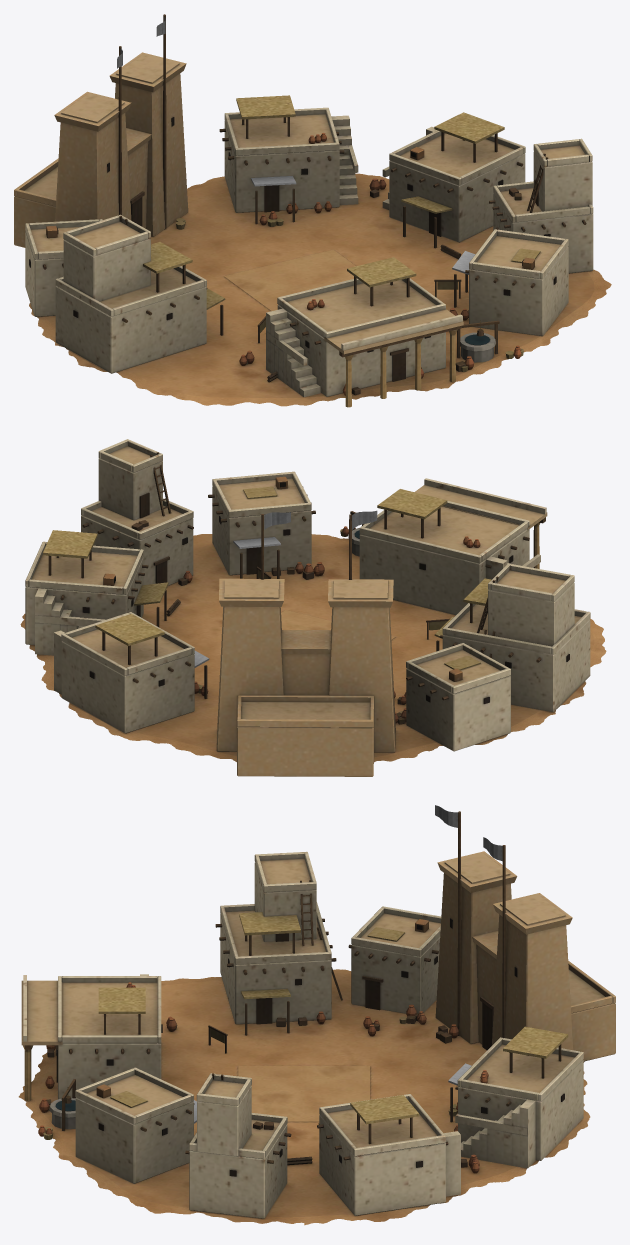
The model's file is bronze-town-small-b.glb.
3 views of the same model, one above another, from view 1: azimuth 30°, elevation 25°; view 2: azimuth 150°, elevation 25°; view 3: azimuth 270°, elevation 25° (orthographic). The views are drawn at different scales.
Parts seen in each view (by area): view 1: LOD0; view 2: LOD0; view 3: LOD0.
Part boxes in pixels (left/top/right/bottom): LOD0: left=14, top=14, right=611, bottom=407; LOD0: left=20, top=439, right=606, bottom=776; LOD0: left=18, top=805, right=615, bottom=1225.
Size of what is drawn, in the model's own units: 3.98 by 1.6 by 3.84.
3 materials, 3 textured.
